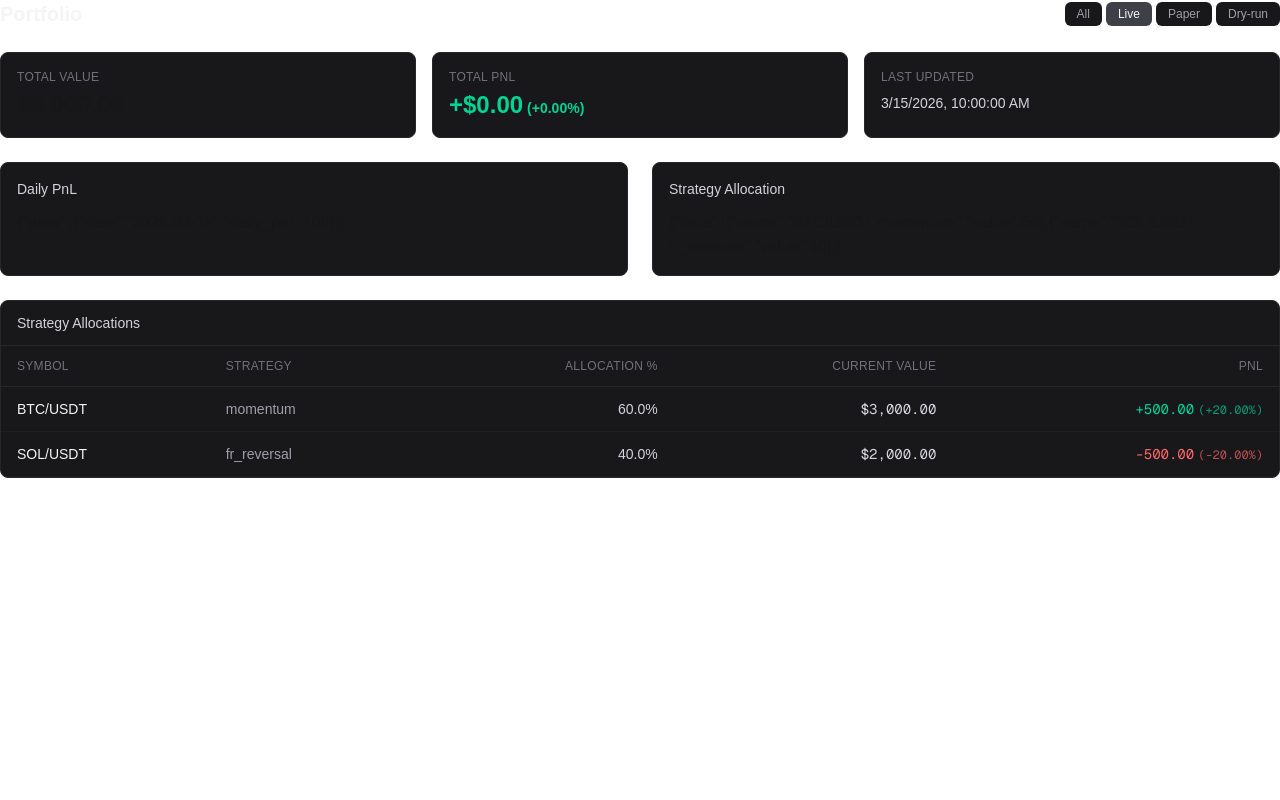
Test case: Portfolio — detail panel › shows all strategy detail fields on click
Click the text "BTC/USDT". click: x=52, y=409
box: [1, 386, 210, 432]
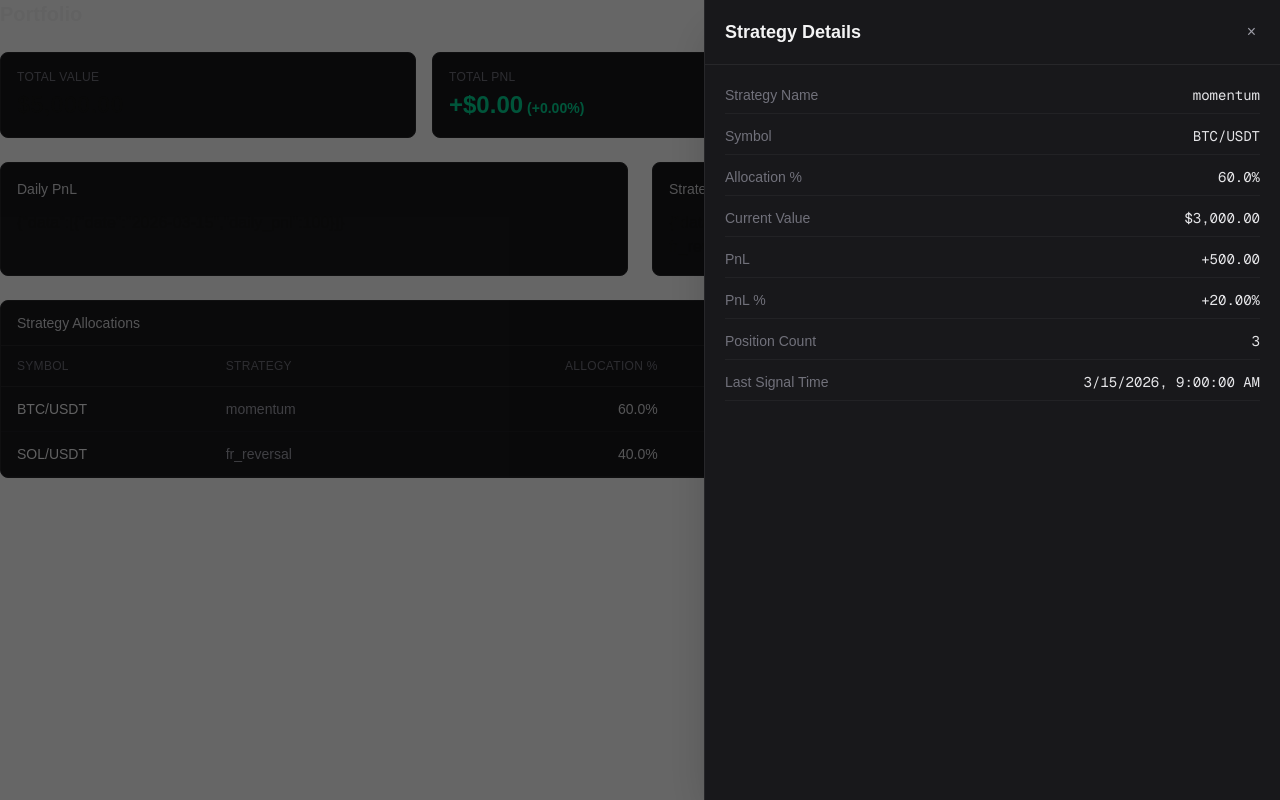
expect the dialog "Strategy Details" is shown: met, box [704, 0, 1279, 799]
expect the text "Strategy Name" is shown: met, box [725, 85, 818, 105]
expect the text "Symbol" is shown: met, box [725, 126, 772, 146]
